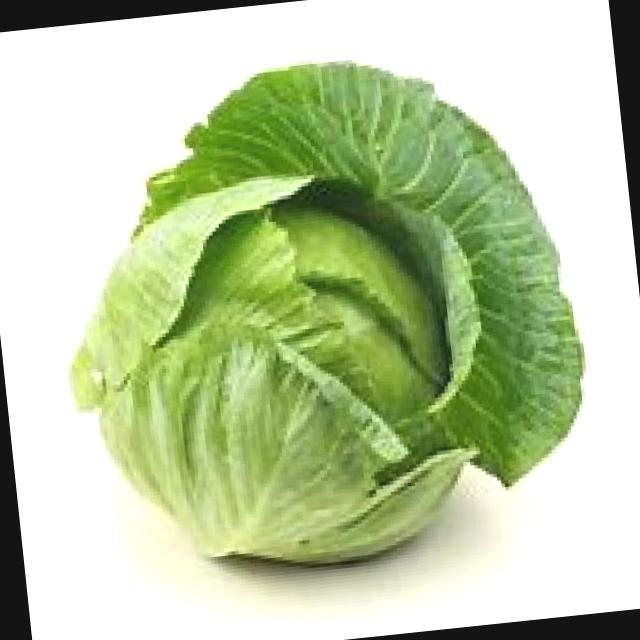cabbage: (42, 144, 496, 598)
